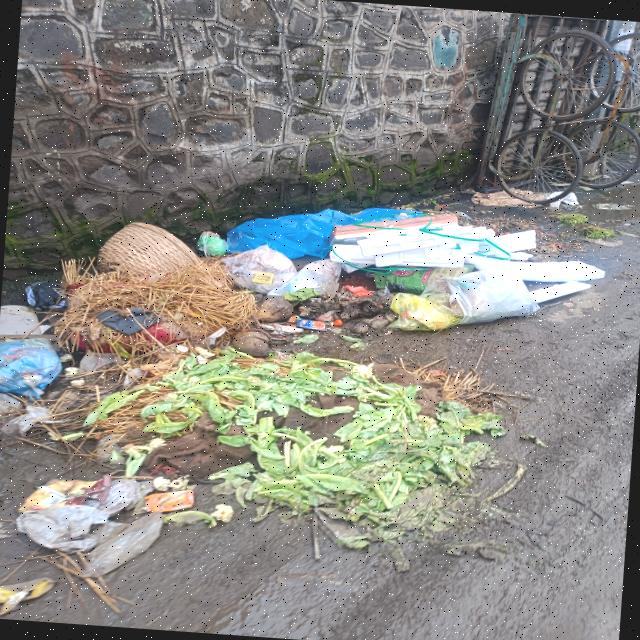garbage: (0, 181, 579, 592)
